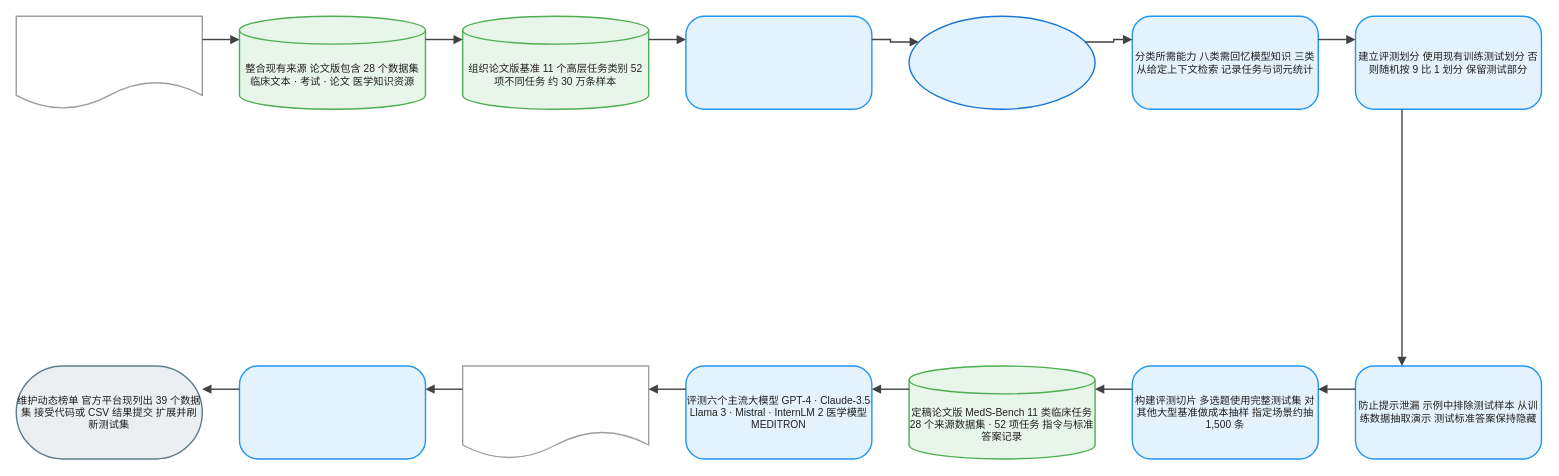
The diagram is 1559 pixels wide and 476 high, and some of its shapes have lost their labels. The shapes that lost their labels are listed below. From the top down, each one's centre as x and y in pixels, then its label:
the point at 109,62: 定义临床评测范围 超越多项选择问答 选择 11 类临床任务 覆盖知识回忆与上下文检索
the point at 778,62: 重构每个数据集 转为指令提示问答结构 规范化输入与输出 保留原数据集语义
the point at 1001,62: 手工编写任务定义 说明所需输出 提供统一指令合同 支持异构临床任务
the point at 332,412: 按输出合同评分 封闭决策使用准确率 标签任务用精确率召回率与 F1 生成任务用 BLEU 与 ROUGE
the point at 555,412: 应用任务专属提示 临床任务采用三样本提示 包含手工任务定义 多项选择问答采用零样本
